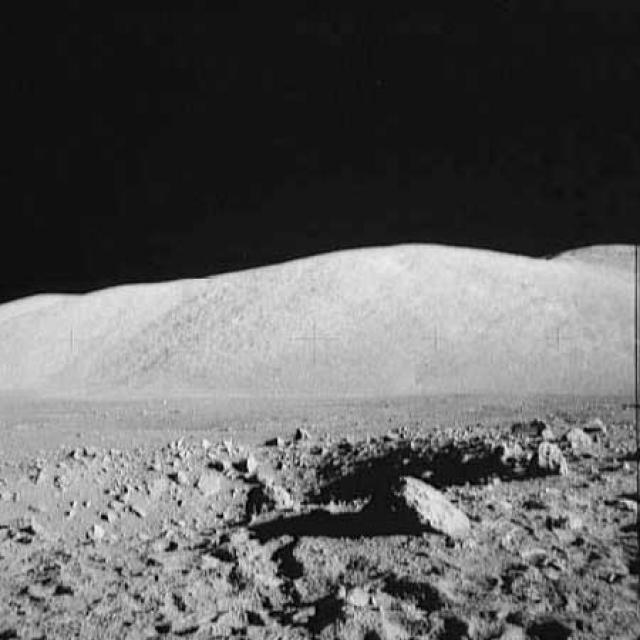rock: (377, 472, 473, 546), (493, 427, 568, 477), (260, 430, 287, 449), (291, 423, 313, 443)
